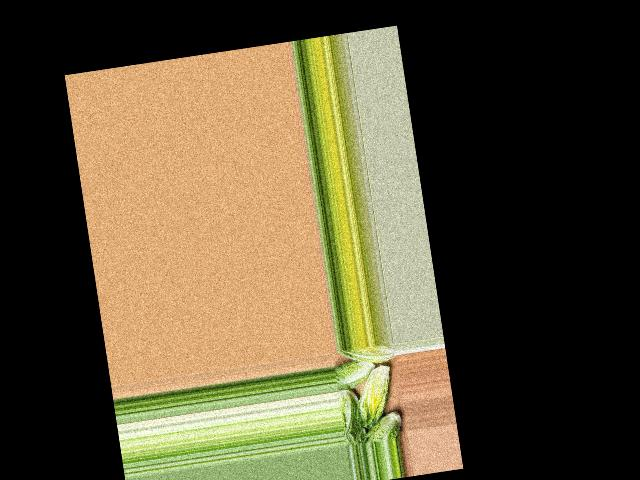lettuce: (338, 342, 396, 369)
